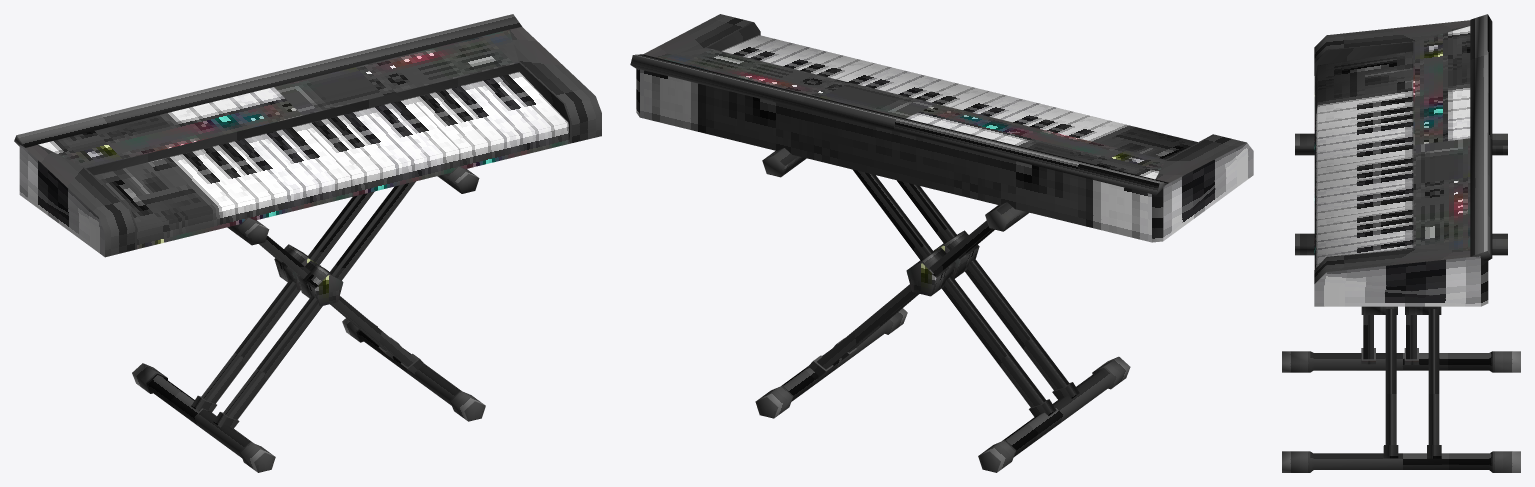
Rendered from Synthesizer.glb.
3 views of the same model, side by side, from view 1: azimuth 30°, elevation 25°; view 2: azimuth 150°, elevation 25°; view 3: azimuth 270°, elevation 25° (orthographic). The views are drawn at different scales.
Visible parts, largest first — view 1: _0_0_node; view 2: _0_0_node; view 3: _0_0_node.
Part boxes in pixels (box(x1,y1,x2,y2)): _0_0_node: box(14, 14, 601, 472); _0_0_node: box(630, 14, 1253, 472); _0_0_node: box(1282, 14, 1520, 472).
Bounding box in the file's own units: 1 × 0.5654 × 0.4258.
Materials: 1 (1 with a texture image).
